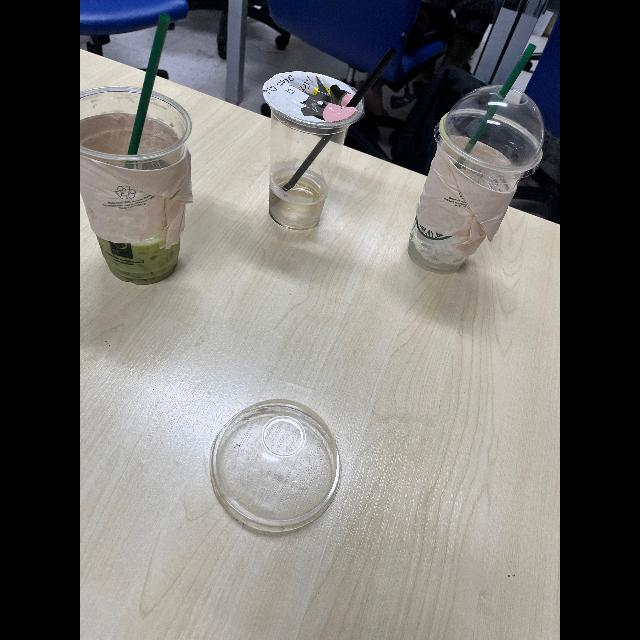plastic_cup: (380, 115, 538, 273), (80, 90, 204, 274), (254, 55, 370, 234)
plastic_cup_lid: (213, 403, 351, 539), (426, 91, 552, 171)
straw: (452, 37, 546, 163), (116, 12, 178, 176), (280, 77, 368, 189)
